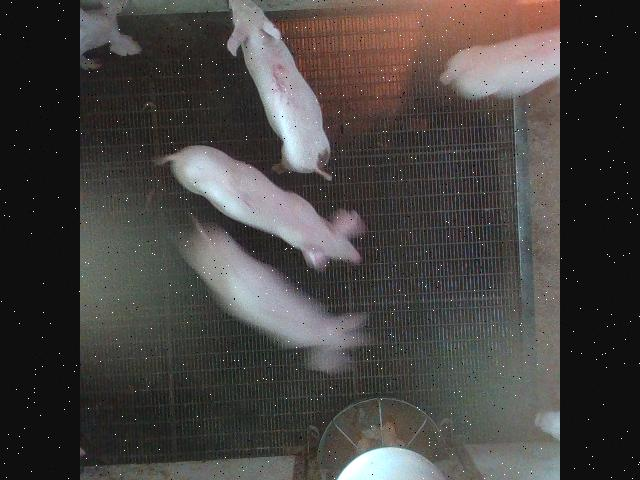pig-4: (440, 29, 559, 98)
pig-5: (228, 0, 331, 179)
